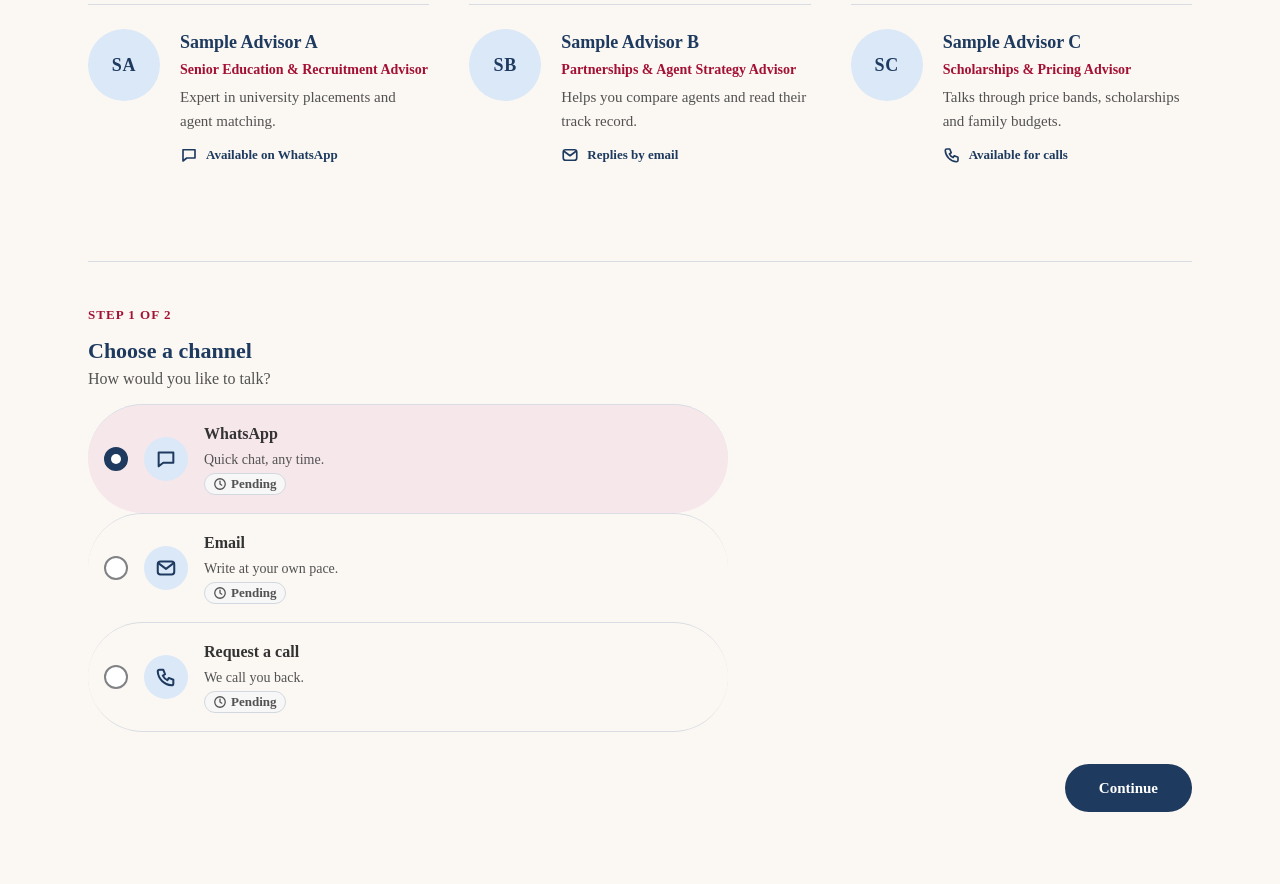
Test case: AdvisorRequest › is two steps with the shared Step label, and focus moves to each new step heading
The width and height of the screenshot is (1280, 884).
(page scrolled)
Expected: the message reads "Step 1 of 2", x1=88 y1=307 x2=172 y2=322
Click the button "Continue" at (1128, 788), box x1=1065 y1=764 x2=1192 y2=812
(page scrolled)
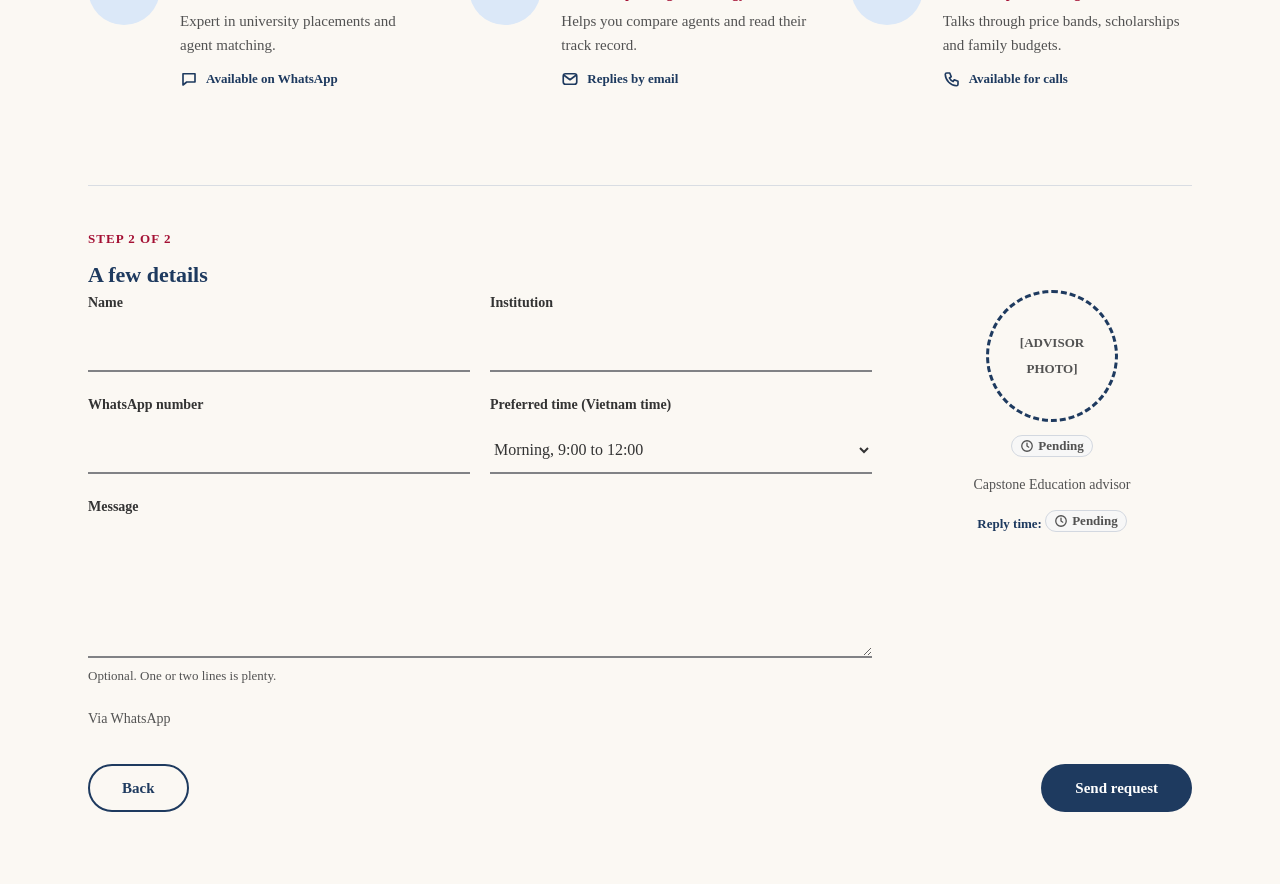
Expected: the message reads "Step 2 of 2", x1=88 y1=231 x2=172 y2=246
Click the button "Back" at (138, 788), box x1=88 y1=764 x2=188 y2=812
(page scrolled)
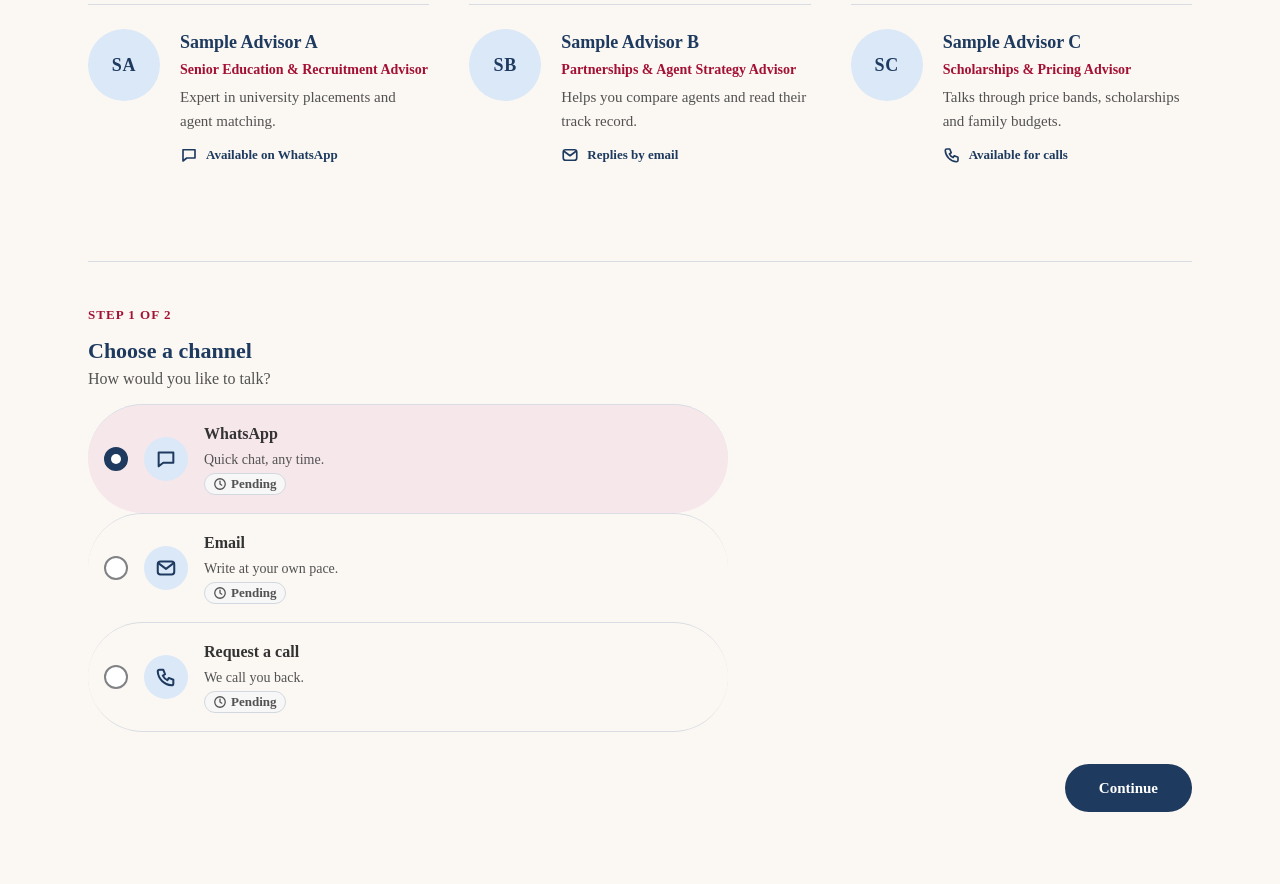
Expected: the message reads "Step 1 of 2", x1=88 y1=307 x2=172 y2=322
